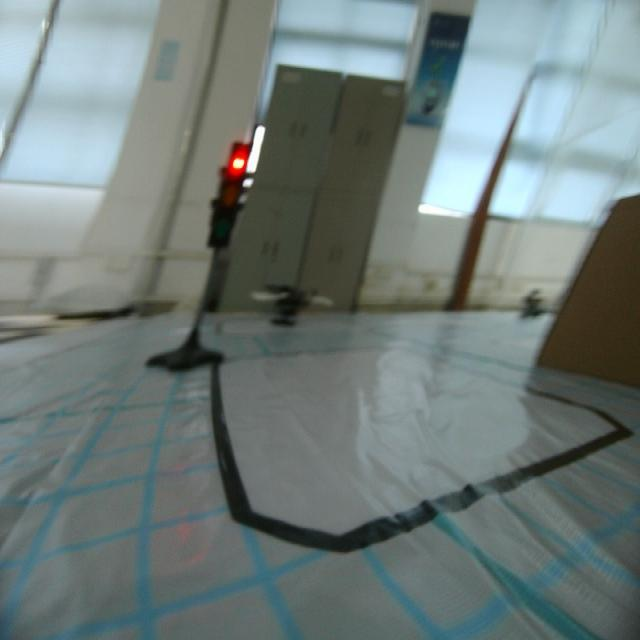red: (206, 129, 252, 254)
